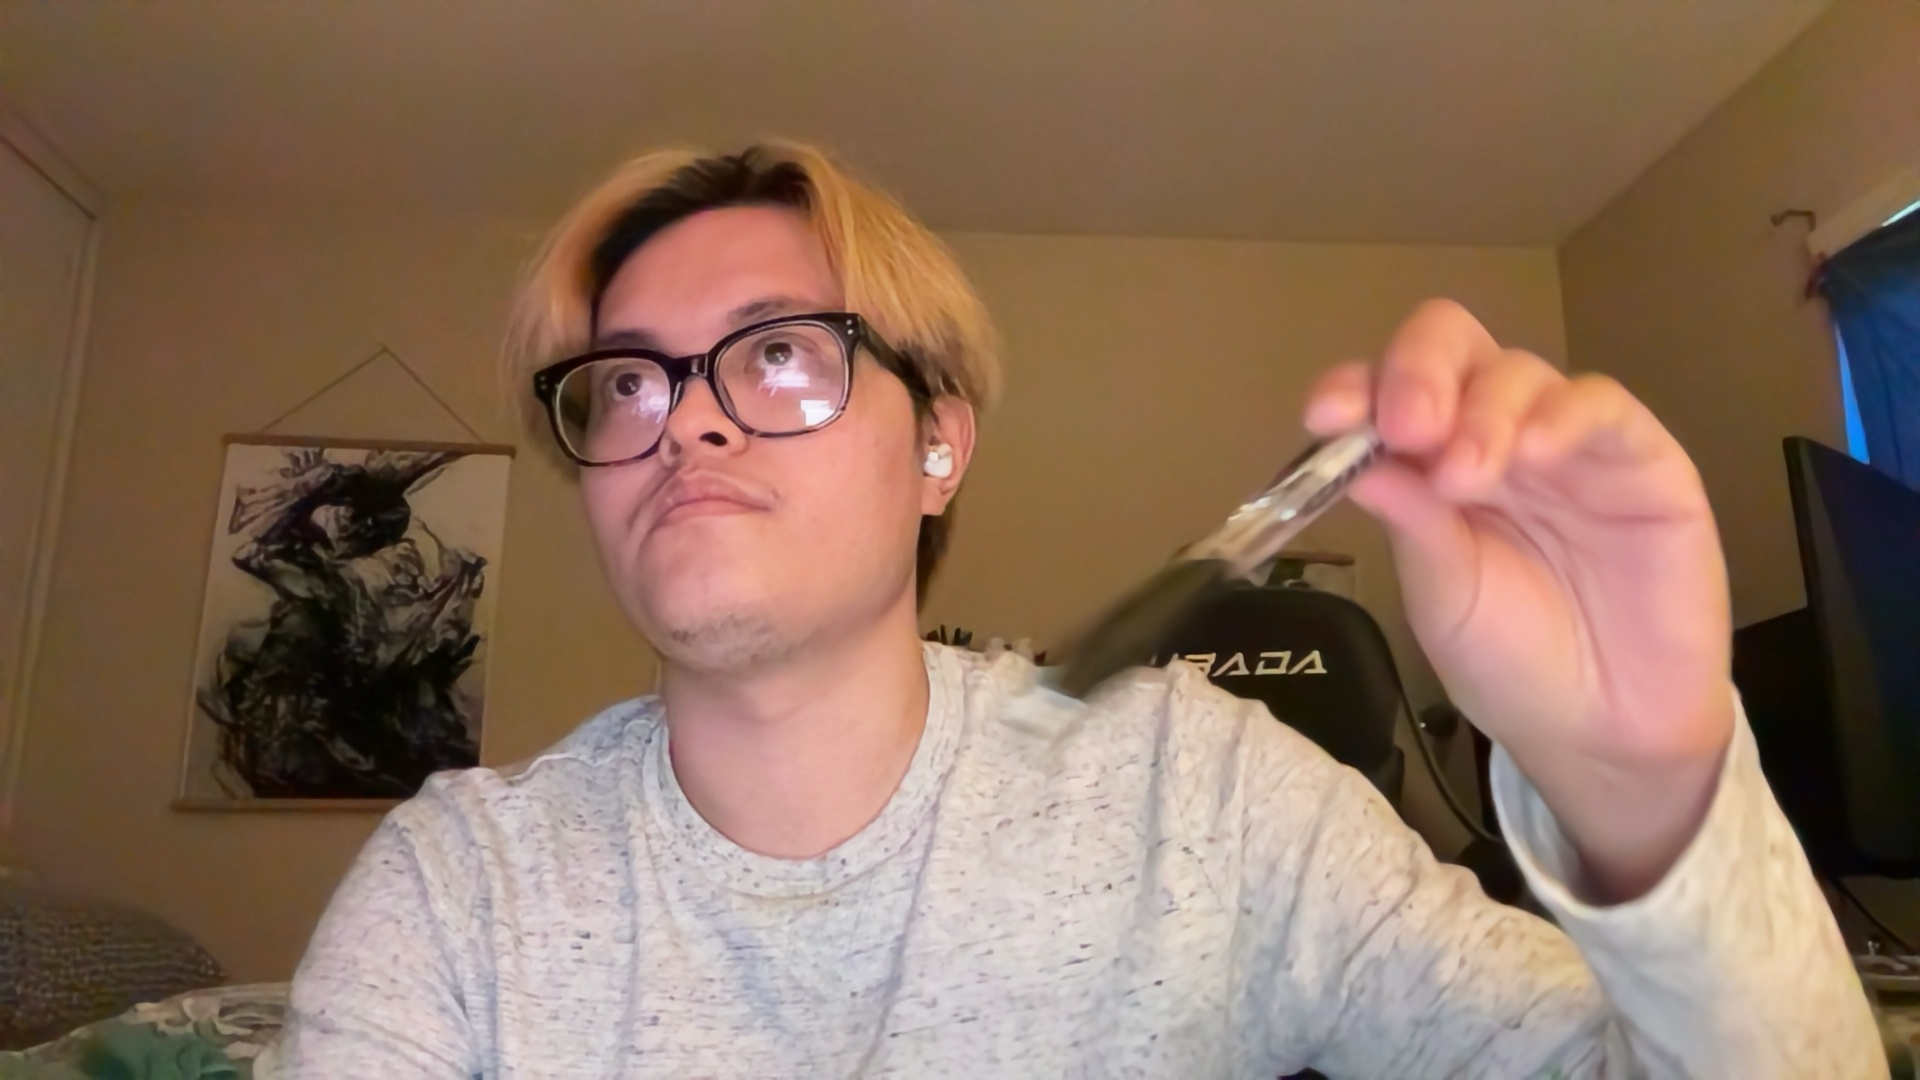pencil: (1011, 415, 1394, 771)
